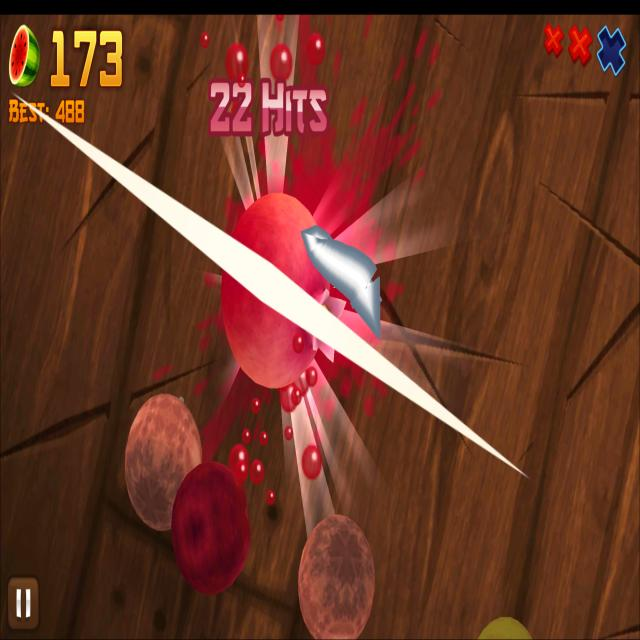fruit: (220, 193, 331, 389), (125, 393, 202, 530), (172, 461, 250, 595), (298, 514, 374, 640), (478, 614, 532, 640)
